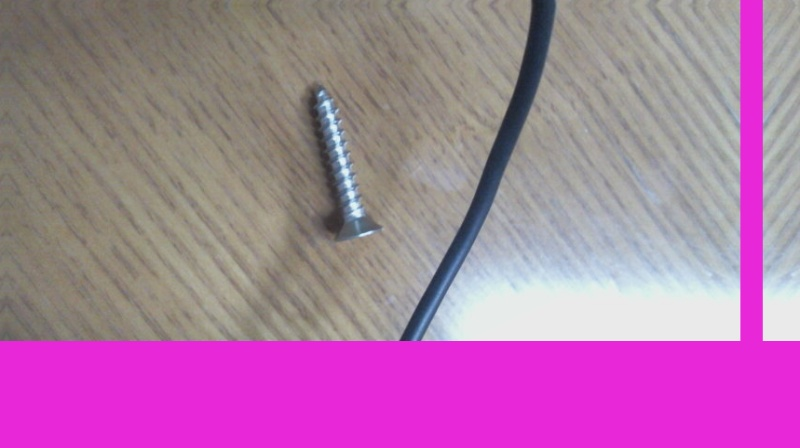S001: (304, 82, 385, 245)
